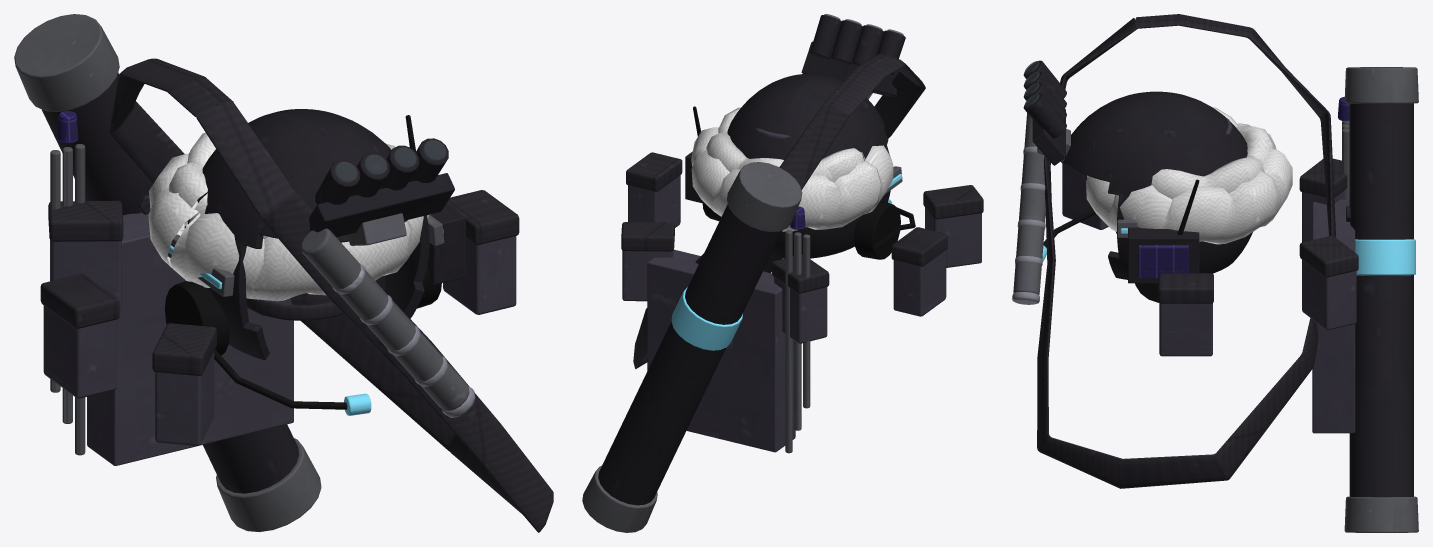
Rendered from kit_yuan.glb.
3 views of the same model, side by side, from view 1: azimuth 30°, elevation 25°; view 2: azimuth 150°, elevation 25°; view 3: azimuth 270°, elevation 25° (orthographic). The views are drawn at different scales.
Visible parts, largest first — view 1: mixamorigSpine2__launcher, mixamorigSpine1__bandolier, mixamorigHips__pouches, mixamorigHead__helmet, mixamorigSpine2__gaiter, mixamorigHead__optics, mixamorigHead__headset, mixamorigLeftForeArm__tablet; view 2: mixamorigSpine2__launcher, mixamorigHips__pouches, mixamorigHead__helmet, mixamorigSpine2__gaiter, mixamorigSpine1__bandolier, mixamorigHead__optics, mixamorigHead__headset; view 3: mixamorigSpine2__launcher, mixamorigSpine1__bandolier, mixamorigHead__helmet, mixamorigHips__pouches, mixamorigSpine2__gaiter, mixamorigHead__optics, mixamorigHead__headset.
Part boxes in pixels (<box>): mixamorigSpine2__launcher: <box>14,14,321,532</box>; mixamorigSpine1__bandolier: <box>109,58,553,532</box>; mixamorigHips__pouches: <box>40,190,519,445</box>; mixamorigHead__helmet: <box>168,109,465,360</box>; mixamorigSpine2__gaiter: <box>148,132,430,301</box>; mixamorigHead__optics: <box>309,138,454,245</box>; mixamorigHead__headset: <box>164,264,441,415</box>; mixamorigLeftForeArm__tablet: <box>246,275,385,320</box>; mixamorigSpine2__launcher: <box>582,162,810,532</box>; mixamorigHips__pouches: <box>621,152,983,343</box>; mixamorigHead__helmet: <box>685,73,902,258</box>; mixamorigSpine2__gaiter: <box>691,107,893,231</box>; mixamorigSpine1__bandolier: <box>633,54,925,369</box>; mixamorigHead__optics: <box>801,14,909,99</box>; mixamorigHead__headset: <box>702,199,915,259</box>; mixamorigSpine2__launcher: <box>1312,67,1418,532</box>; mixamorigSpine1__bandolier: <box>1012,14,1335,488</box>; mixamorigHead__helmet: <box>1065,91,1252,283</box>; mixamorigHips__pouches: <box>1061,158,1358,356</box>; mixamorigSpine2__gaiter: <box>1086,107,1292,244</box>; mixamorigHead__optics: <box>1023,60,1070,165</box>; mixamorigHead__headset: <box>1042,209,1158,302</box>.
Size of the model in its own units: 52.51 by 68.95 by 56.86.
Materials: 4 (2 with a texture image).
